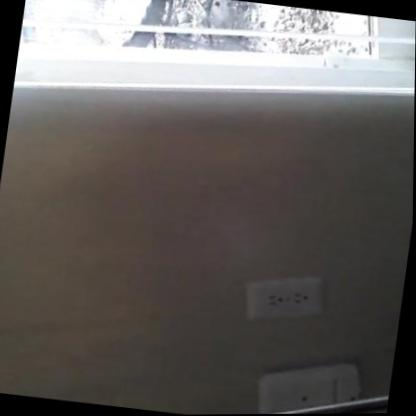OUTLET: (241, 271, 326, 325)
